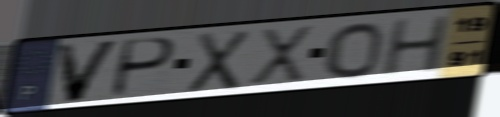H: (378, 13, 452, 78)
O: (322, 20, 385, 80)
P: (107, 35, 179, 99)
V: (52, 38, 124, 105)
X: (185, 28, 254, 95), (247, 24, 316, 87)
